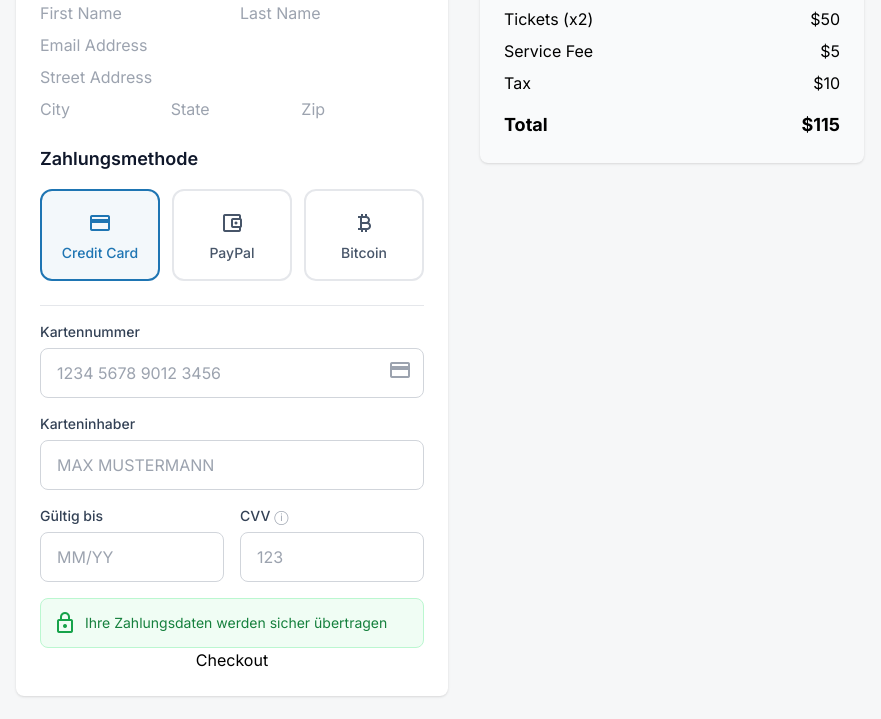
Test: CheckoutPage – Checkout Flow › shows error message when purchase fails
(page scrolled)
Click the button with test id "checkout-btn" at coordinates (232, 660), box [40, 648, 424, 672]
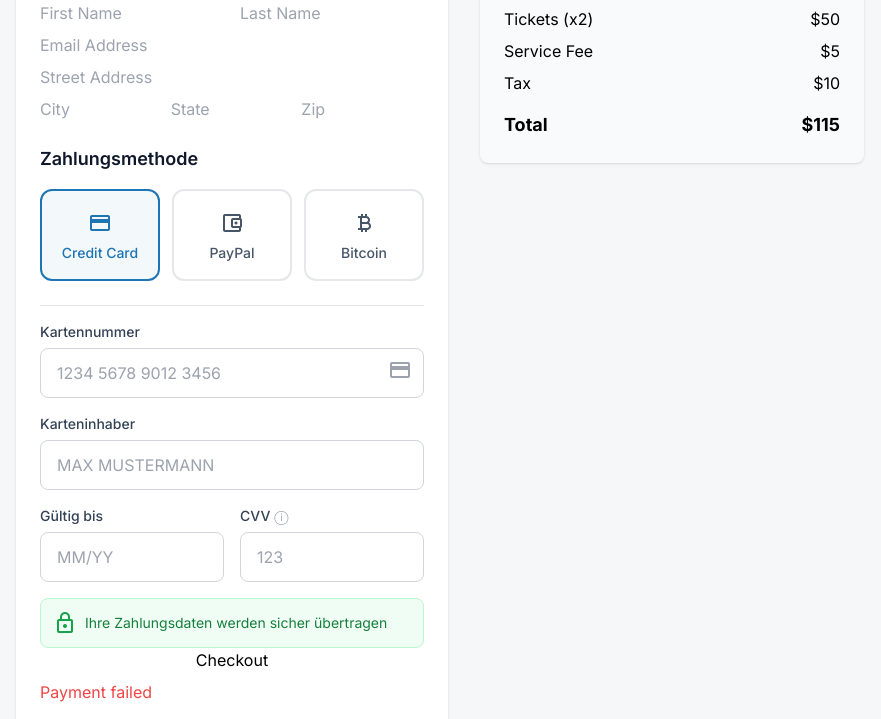
Expected: the text "Payment failed" is shown, [40, 682, 152, 702]
